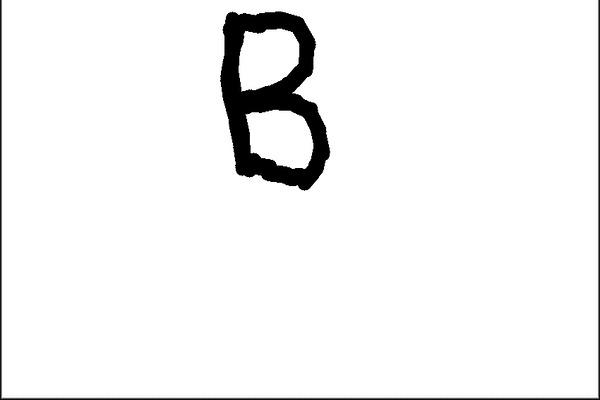B: (210, 4, 337, 195)
